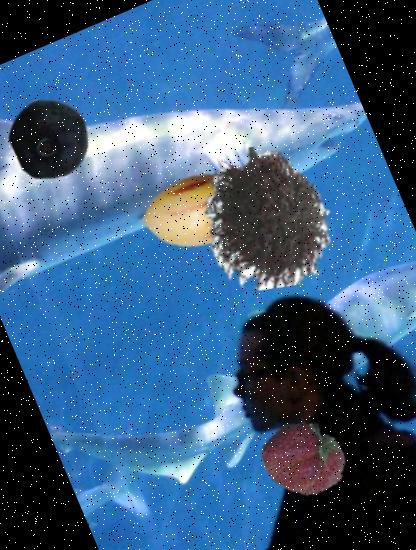Blueberry: (0, 83, 105, 192)
Pepino: (125, 139, 269, 283)
Rambutan: (172, 123, 360, 311)
Strawberry: (249, 402, 360, 513)
